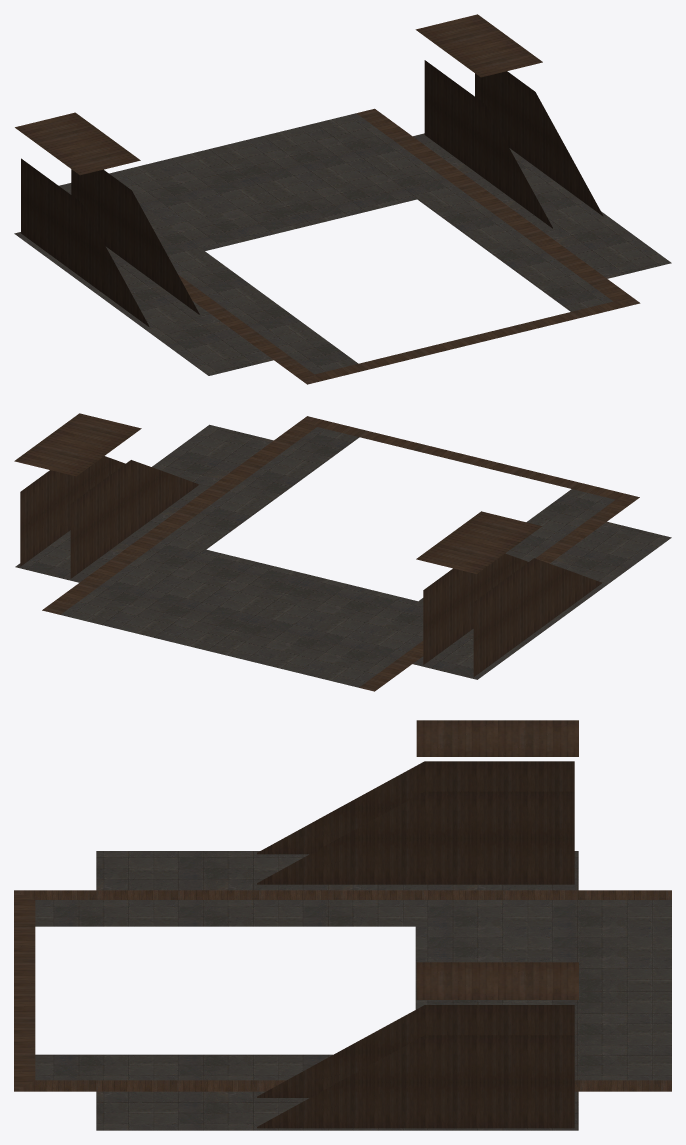
File: Ground Wall.fbx
3 views of the same model, one above another, from view 1: azimuth 30°, elevation 25°; view 2: azimuth 150°, elevation 25°; view 3: azimuth 270°, elevation 25° (orthographic). The views are drawn at different scales.
Visible parts, largest first — view 1: qwe; view 2: qwe; view 3: qwe.
Part boxes in pixels (bbox=[...]): qwe: bbox=[14, 14, 671, 384]; qwe: bbox=[14, 413, 671, 691]; qwe: bbox=[14, 720, 671, 1130].
Size of the model in its own units: 1122 by 248 by 1113.
1 material, 1 textured.
